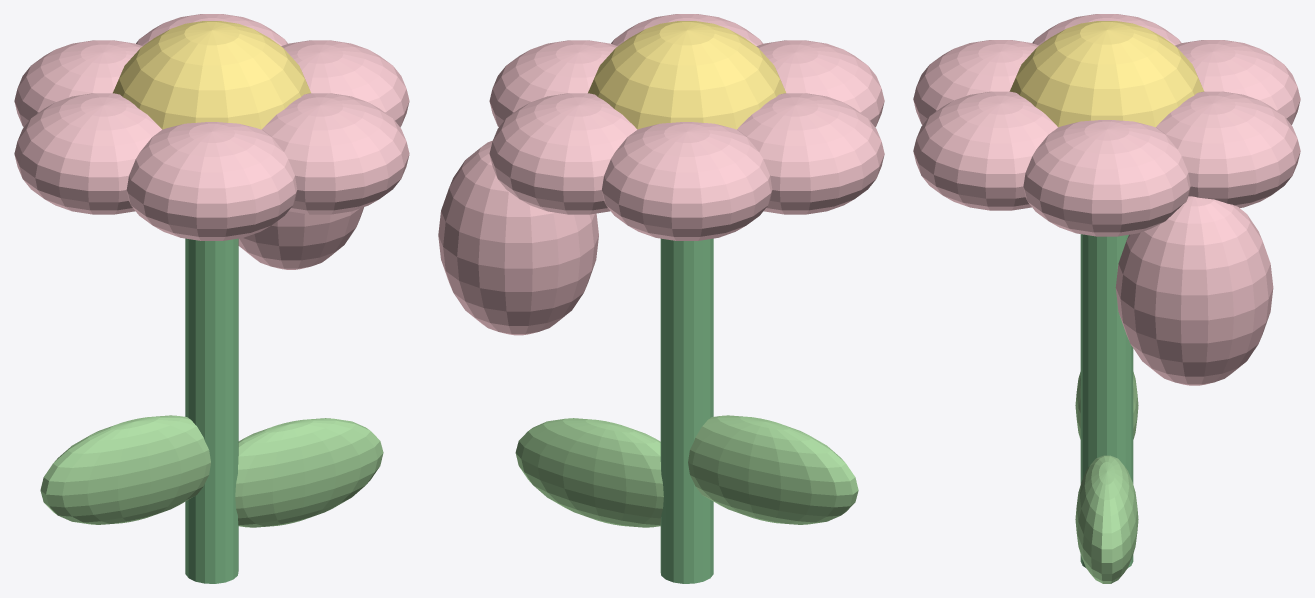
Rendered from flower.glb.
3 views of the same model, side by side, from view 1: azimuth 30°, elevation 25°; view 2: azimuth 150°, elevation 25°; view 3: azimuth 270°, elevation 25° (orthographic). The views are drawn at different scales.
Parts seen in each view (by area): view 1: FlStem.001, FlPetal.010, FlCenter.001, FlLeafL, FlPetal.009, FlPetal.011, FlLeafR, FlPetal.006, FlPetal.008, FlBud, FlPetal.007; view 2: FlBud, FlStem.001, FlPetal.008, FlCenter.001, FlLeafL, FlPetal.007, FlPetal.009, FlLeafR, FlPetal.010, FlPetal.006, FlPetal.011; view 3: FlBud, FlPetal.006, FlCenter.001, FlPetal.011, FlPetal.007, FlStem.001, FlLeafR, FlPetal.008, FlPetal.010, FlPetal.009, FlLeafL.
Part boxes in pixels (bbox=[...]): FlStem.001: bbox=[185, 238, 238, 583]; FlPetal.010: bbox=[126, 122, 297, 240]; FlCenter.001: bbox=[113, 21, 310, 129]; FlLeafL: bbox=[40, 415, 210, 524]; FlPetal.009: bbox=[14, 93, 161, 214]; FlPetal.011: bbox=[262, 93, 409, 214]; FlLeafR: bbox=[235, 418, 383, 527]; FlPetal.006: bbox=[281, 40, 409, 127]; FlPetal.008: bbox=[14, 40, 142, 127]; FlBud: bbox=[238, 207, 363, 269]; FlPetal.007: bbox=[136, 14, 287, 46]; FlBud: bbox=[438, 140, 598, 335]; FlStem.001: bbox=[660, 238, 713, 583]; FlPetal.008: bbox=[602, 122, 772, 240]; FlCenter.001: bbox=[588, 21, 785, 129]; FlLeafL: bbox=[688, 415, 858, 524]; FlPetal.007: bbox=[489, 93, 637, 214]; FlPetal.009: bbox=[737, 93, 884, 214]; FlLeafR: bbox=[515, 418, 663, 527]; FlPetal.010: bbox=[756, 40, 884, 127]; FlPetal.006: bbox=[489, 40, 617, 127]; FlPetal.011: bbox=[611, 14, 763, 46]; FlBud: bbox=[1115, 196, 1273, 385]; FlPetal.006: bbox=[1023, 120, 1190, 236]; FlCenter.001: bbox=[1009, 21, 1204, 127]; FlPetal.011: bbox=[913, 91, 1057, 210]; FlPetal.007: bbox=[1156, 91, 1300, 207]; FlStem.001: bbox=[1080, 234, 1133, 567]; FlLeafR: bbox=[1075, 455, 1138, 583]; FlPetal.008: bbox=[1175, 40, 1300, 124]; FlPetal.010: bbox=[913, 40, 1038, 124]; FlPetal.009: bbox=[1032, 14, 1181, 45]; FlLeafL: bbox=[1075, 372, 1138, 439].
Bounding box in the file's own units: 0.4871 × 0.67 × 0.4425.
